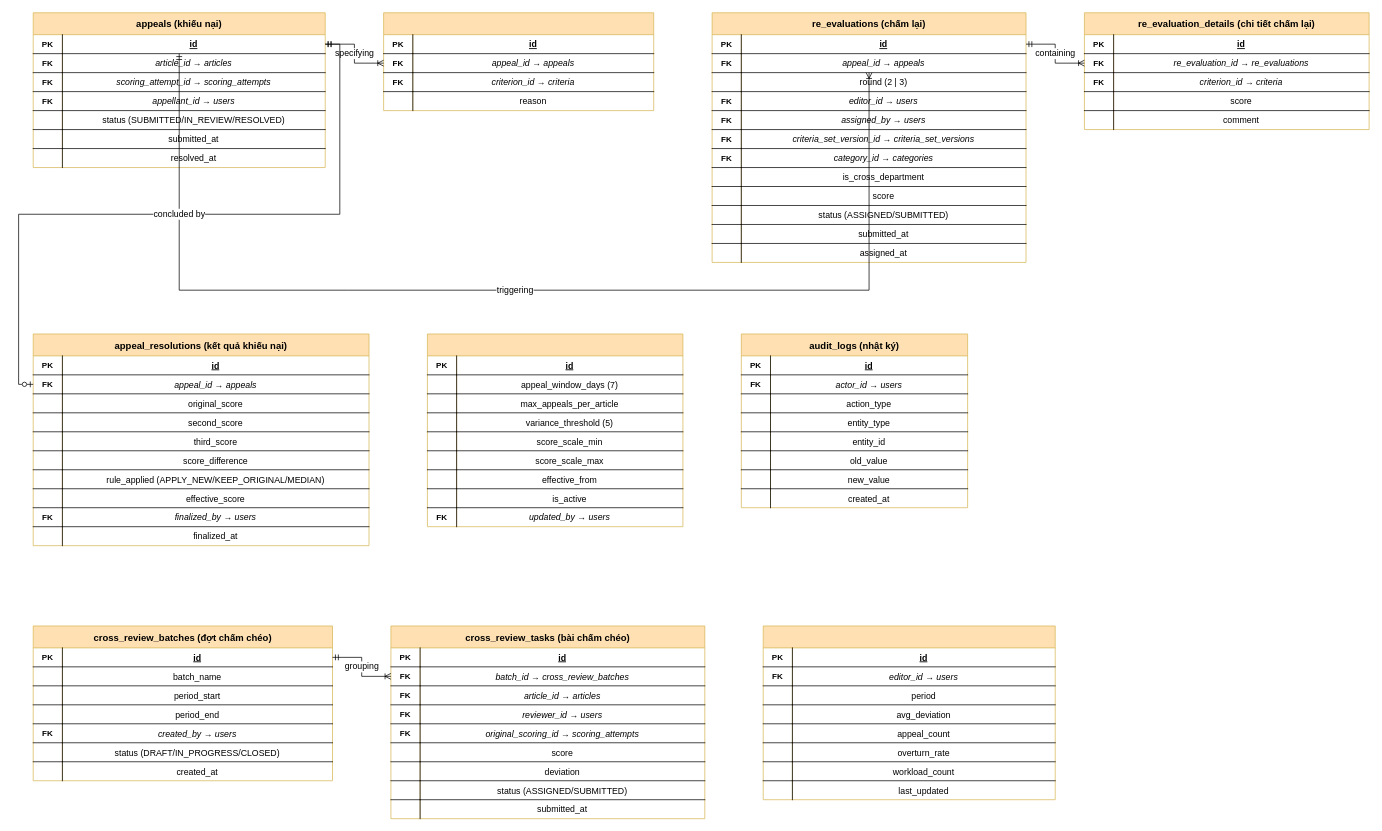
This 1382x831 diagram has some shape labels left out. Here are the shapes that lost their labels. From the top down, the box of each, then its label:
(383, 12, 654, 111): appeal_criteria (tiêu chí khiếu nại)
(427, 333, 683, 527): appeal_rule_configs (cấu hình quy tắc)
(762, 625, 1055, 800): reviewer_deviation_indices (chỉ số độ lệch)
